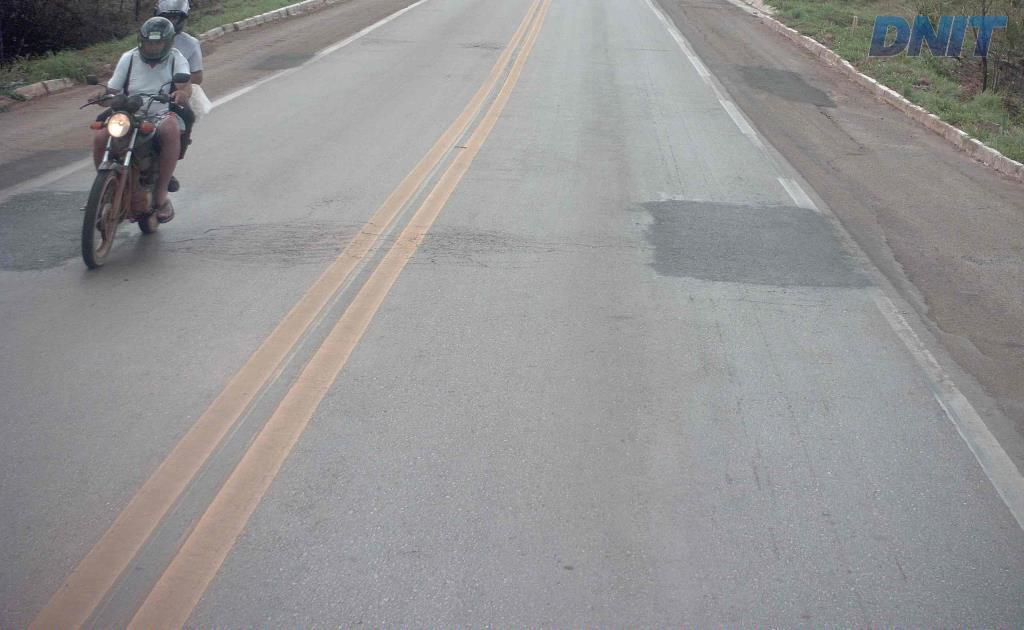crack: (426, 231, 497, 264)
